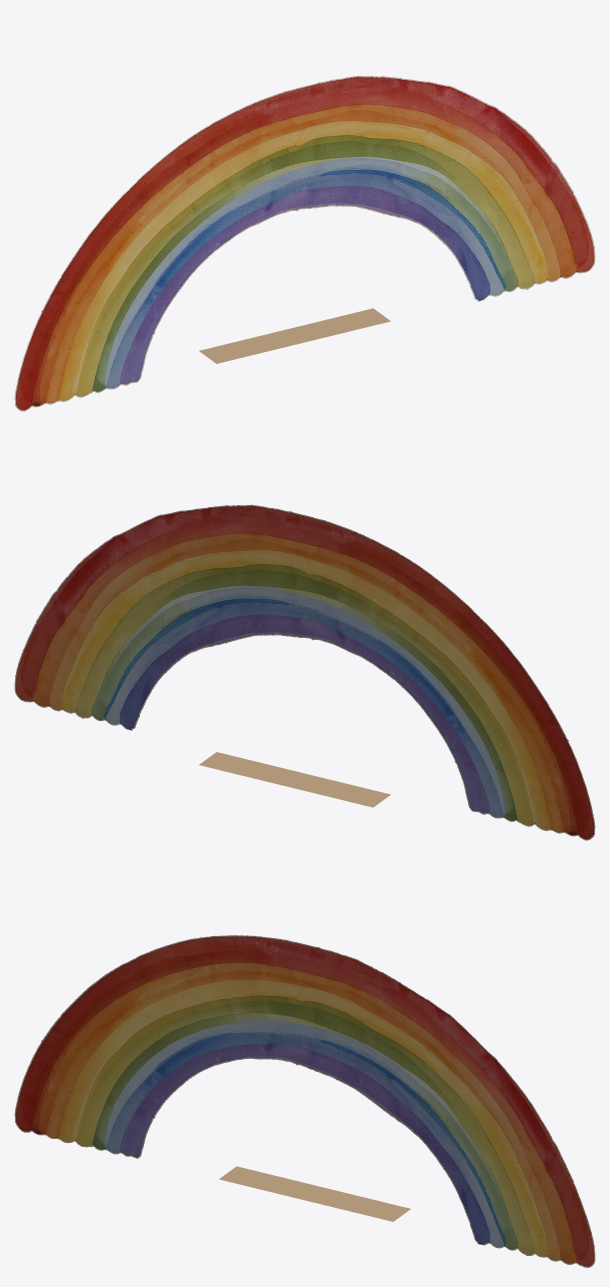
Rendered from toad-standee-rainbow.glb.
3 views of the same model, one above another, from view 1: azimuth 30°, elevation 25°; view 2: azimuth 150°, elevation 25°; view 3: azimuth 330°, elevation 25° (orthographic).
Visible parts, largest first — view 1: rainbow; view 2: rainbow; view 3: rainbow.
Boxes of the visible parts, x1,y1,x2,y2 form: rainbow: (14, 76, 595, 411); rainbow: (14, 505, 595, 840); rainbow: (14, 935, 595, 1267).
Bounding box in the file's own units: 0.62 × 0.2634 × 0.035.
Materials: 1 (1 with a texture image).
